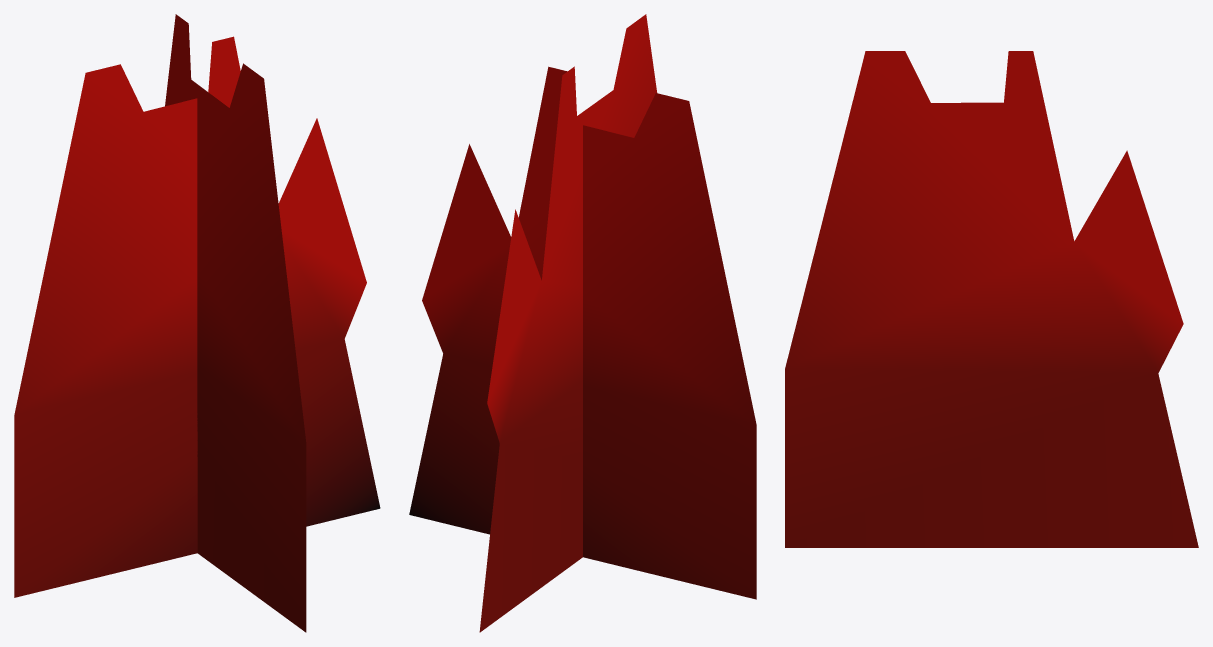
File: bush_2_large.glb
3 renders of one model, left to right at view 1: azimuth 30°, elevation 25°; view 2: azimuth 150°, elevation 25°; view 3: azimuth 270°, elevation 25°, orthographic. The views are drawn at different scales.
Parts seen in each view (by area): view 1: Bush_2_large; view 2: Bush_2_large; view 3: Bush_2_large.
Part boxes in pixels (x1,y1,x2,y2): Bush_2_large: (14,14,380,632); Bush_2_large: (409,14,756,632); Bush_2_large: (785,51,1198,547).
Bounding box in the file's own units: 0.4118 × 0.5626 × 0.4245.
